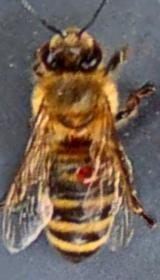varroa_mite: (72, 158, 102, 188)
